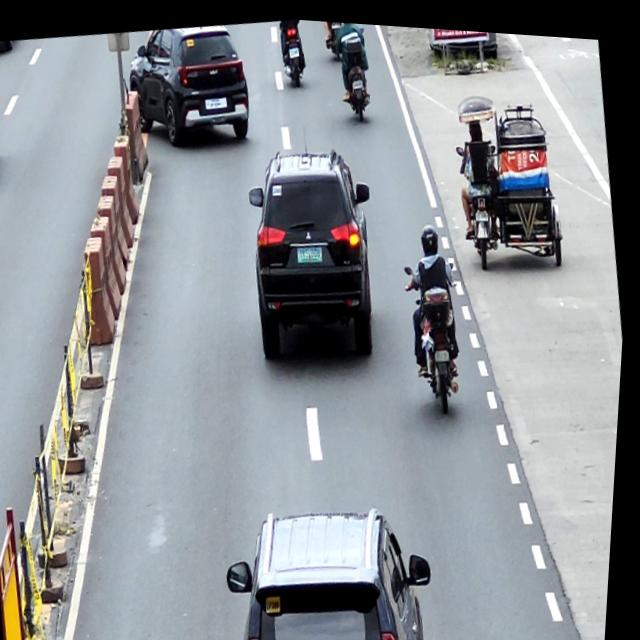Car: (237, 136, 397, 369), (221, 483, 451, 640), (121, 14, 260, 152)
License-Plate: (299, 239, 328, 261), (437, 343, 454, 358), (476, 201, 492, 216), (208, 95, 226, 107), (352, 75, 365, 86), (289, 43, 301, 54), (331, 17, 341, 25)
Motorcycle: (400, 251, 477, 412), (331, 18, 378, 120), (277, 15, 311, 86), (323, 17, 348, 53)
Tricycle: (445, 78, 575, 270)
